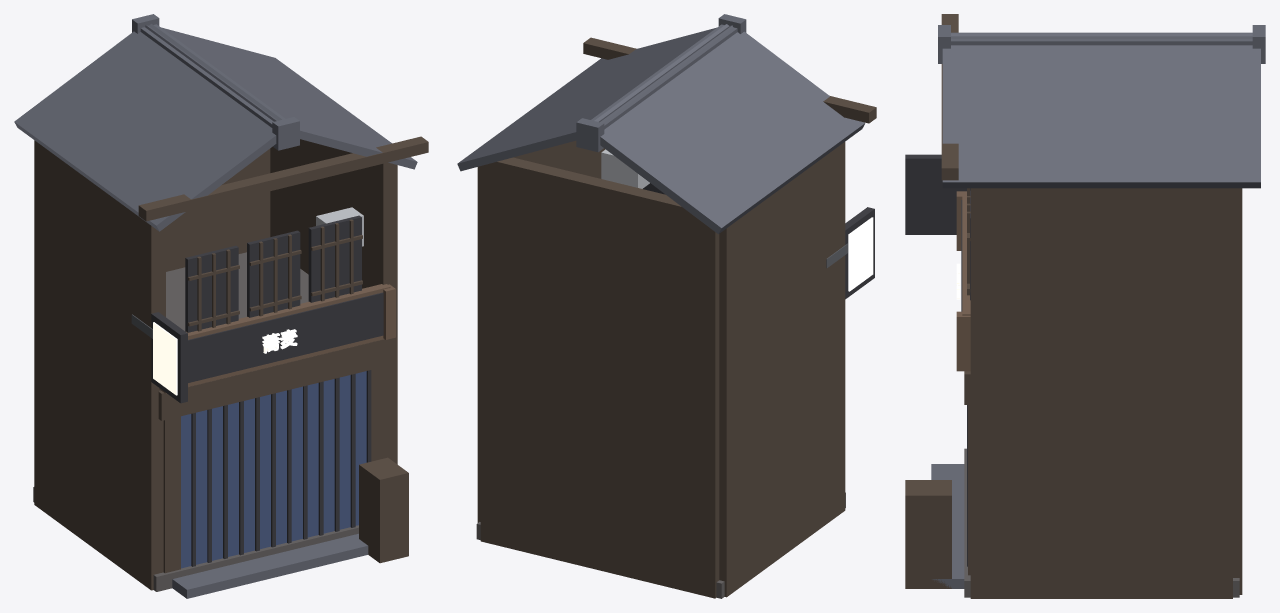
File: prop_shop_sobaya_closed.glb
The picture shows the model from 3 angles, left to right: view 1: azimuth 30°, elevation 25°; view 2: azimuth 150°, elevation 25°; view 3: azimuth 270°, elevation 25°; orthographic projection. The views are drawn at different scales.
Parts seen in each view (by area): view 1: shop_sobaya_closed; view 2: shop_sobaya_closed; view 3: shop_sobaya_closed.
Boxes of the visible parts, x1=… form: shop_sobaya_closed: x1=14, y1=14, x2=428, y2=598; shop_sobaya_closed: x1=457, y1=14, x2=876, y2=598; shop_sobaya_closed: x1=905, y1=14, x2=1265, y2=598.
Size of the model in its own units: 3.9 by 5.9 by 3.85.
